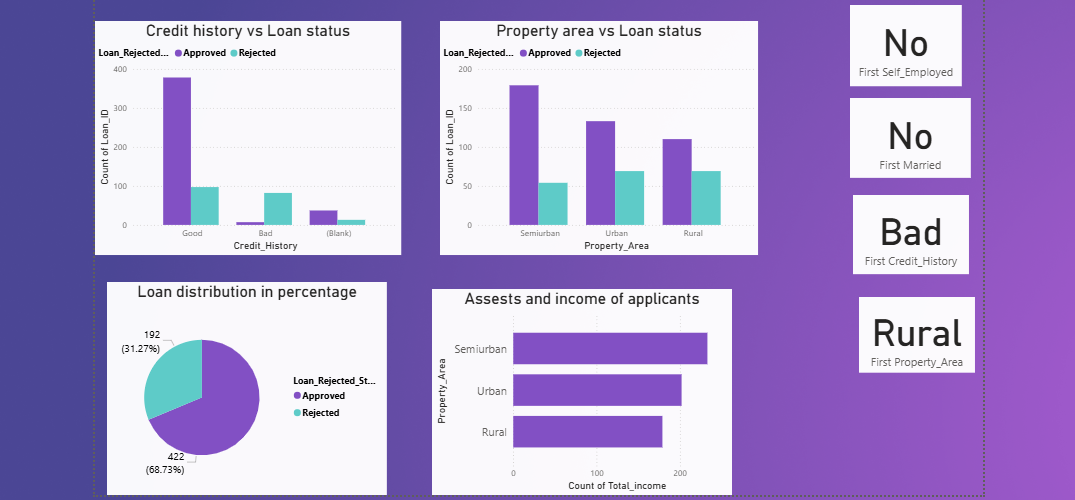

The dashboard page shown, as its layout file describes it:
{"tool":"powerbi","page":{"name":"Page 1","canvas":[1280,720],"ordinal":0},"visuals":[{"type":"pieChart","title":"Loan distribution in percentage","fields":{"Y":["train_u6lujuX_CVtuZ9i (1).Loan_Rejected_Status"],"Category":["train_u6lujuX_CVtuZ9i (1).Loan_Rejected_Status"]},"box":[17.3,413.3,403.2,306.7],"z":0},{"type":"card","fields":{"Values":["train_u6lujuX_CVtuZ9i (1).Credit_History"]},"box":[1091.5,288,167,113.8],"z":1000},{"type":"card","fields":{"Values":["train_u6lujuX_CVtuZ9i (1).Self_Employed"]},"box":[1087.2,14.4,161.3,116.6],"z":2000},{"type":"card","fields":{"Values":["train_u6lujuX_CVtuZ9i (1).Married"]},"box":[1087.2,148.3,174.2,115.2],"z":3000},{"type":"card","fields":{"Values":["train_u6lujuX_CVtuZ9i (1).Property_Area"]},"box":[1100.2,434.9,167,109.4],"z":4000},{"type":"clusteredBarChart","title":"Assests and income of applicants","fields":{"Category":["train_u6lujuX_CVtuZ9i (1).Property_Area"],"Y":["train_u6lujuX_CVtuZ9i (1).Total_income"]},"box":[485.3,423.4,432,296.6],"z":5000},{"type":"clusteredColumnChart","title":"Credit history vs Loan status","fields":{"Category":["train_u6lujuX_CVtuZ9i (1).Credit_History"],"Series":["train_u6lujuX_CVtuZ9i (1).Loan_Rejected_Status"],"Y":["train_u6lujuX_CVtuZ9i (1).Loan_ID"]},"box":[0,37.4,440.6,337],"z":6000},{"type":"clusteredColumnChart","title":"Property area vs Loan status","fields":{"Category":["train_u6lujuX_CVtuZ9i (1).Property_Area"],"Series":["train_u6lujuX_CVtuZ9i (1).Loan_Rejected_Status"],"Y":["train_u6lujuX_CVtuZ9i (1).Loan_ID"]},"box":[496.8,37.4,457.9,337],"z":7000}]}

Visuals, with their boxes in screenshot pixels (x1, y1, x2, y2):
"Loan distribution in percentage" pieChart: left=110, top=281, right=387, bottom=491
card - train_u6lujuX_CVtuZ9i (1).Credit_History: left=847, top=195, right=962, bottom=273
card - train_u6lujuX_CVtuZ9i (1).Self_Employed: left=844, top=7, right=955, bottom=87
card - train_u6lujuX_CVtuZ9i (1).Married: left=844, top=99, right=964, bottom=178
card - train_u6lujuX_CVtuZ9i (1).Property_Area: left=853, top=296, right=968, bottom=371
"Assests and income of applicants" clusteredBarChart: left=431, top=288, right=728, bottom=491
"Credit history vs Loan status" clusteredColumnChart: left=98, top=23, right=400, bottom=254
"Property area vs Loan status" clusteredColumnChart: left=439, top=23, right=753, bottom=254
